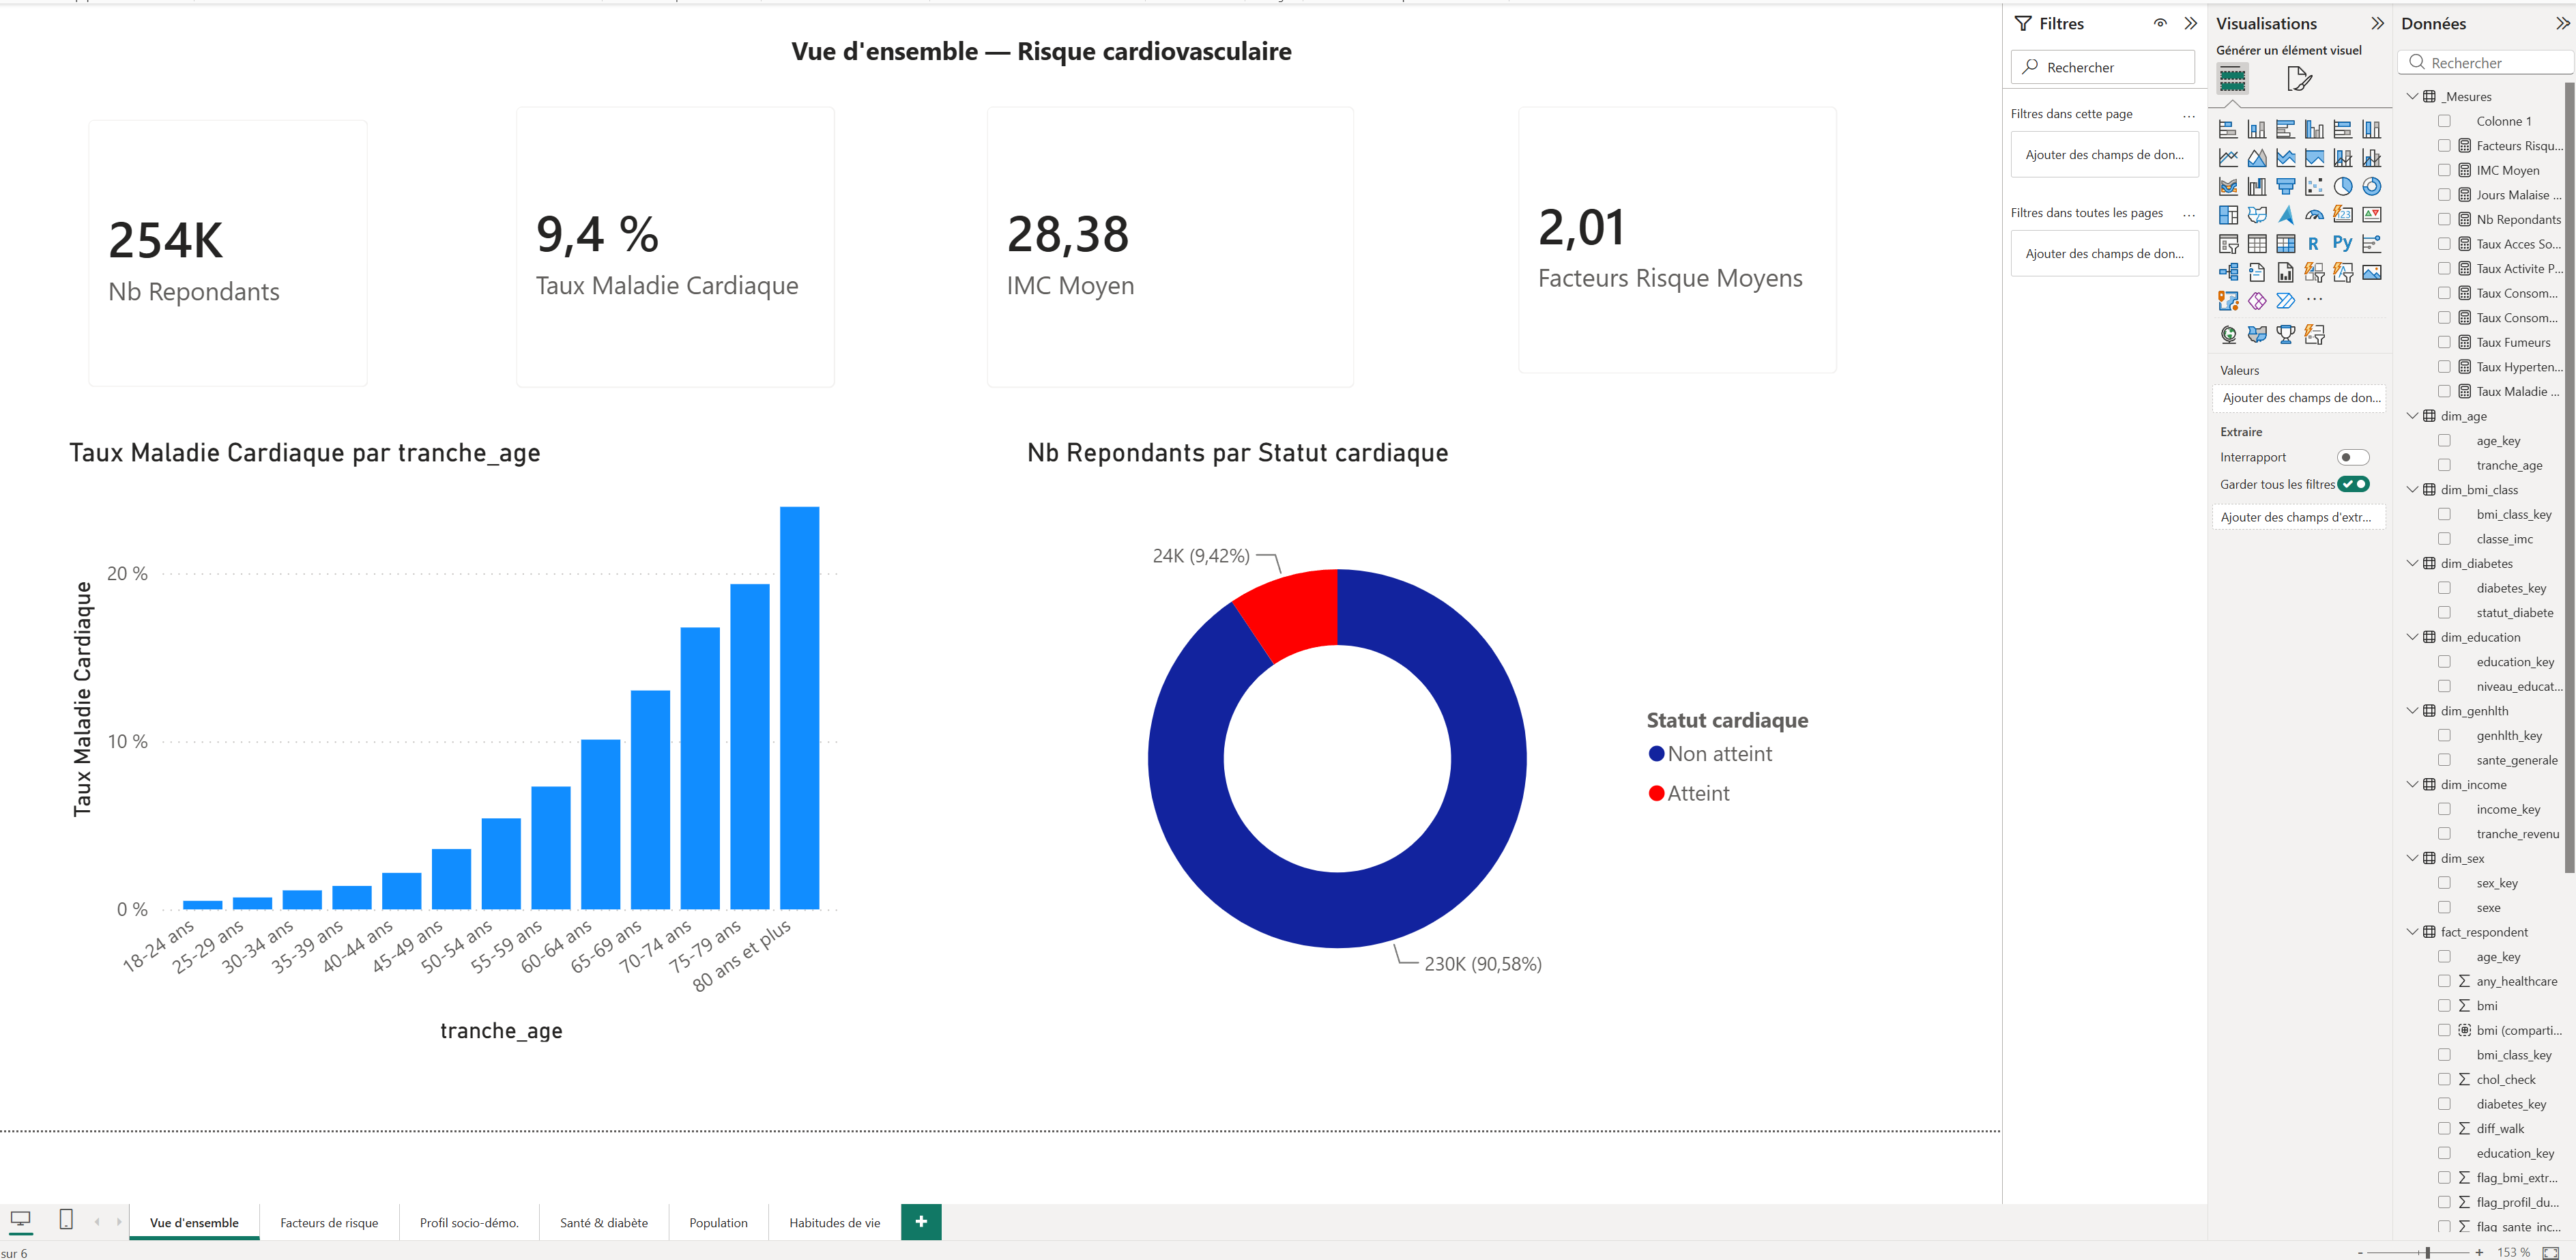

The dashboard page shown, as its layout file describes it:
{"tool":"powerbi","page":{"name":"Vue d'ensemble","canvas":[1280,720],"ordinal":0},"visuals":[{"type":"cardVisual","fields":{"Data":["_Mesures.Nb Repondants"]},"box":[39.9,56.9,213.2,206],"z":0},{"type":"cardVisual","fields":{"Data":["_Mesures.Taux Maladie Cardiaque"]},"box":[313.2,48.4,238.7,214.5],"z":1000},{"type":"cardVisual","fields":{"Data":["_Mesures.IMC Moyen"]},"box":[614.1,48.4,269.4,214.5],"z":2000},{"type":"cardVisual","fields":{"Data":["_Mesures.Facteurs Risque Moyens"]},"box":[953.5,48.4,238.7,206],"z":3000},{"type":"clusteredColumnChart","fields":{"Category":["dim_age.tranche_age"],"Y":["_Mesures.Taux Maladie Cardiaque"]},"box":[39.9,276.6,502.2,391.7],"z":4000},{"type":"donutChart","fields":{"Category":["fact_respondent.Statut cardiaque"],"Y":["_Mesures.Nb Repondants"]},"box":[652,276.6,525.1,391.7],"z":5000},{"type":"textbox","box":[478,13.7,376.7,34.7],"z":6000}]}

Visuals, with their boxes on the page's 1280x720 design canvas (x1, y1, x2, y2). These are canvas units, not pixel positions in the 2576x1260 screenshot, which may show the page scaled, cropped or inside an application window:
cardVisual - _Mesures.Nb Repondants: locate(40, 57, 253, 263)
cardVisual - _Mesures.Taux Maladie Cardiaque: locate(313, 48, 552, 263)
cardVisual - _Mesures.IMC Moyen: locate(614, 48, 884, 263)
cardVisual - _Mesures.Facteurs Risque Moyens: locate(954, 48, 1192, 254)
clusteredColumnChart - dim_age.tranche_age x _Mesures.Taux Maladie Cardiaque: locate(40, 277, 542, 668)
donutChart - fact_respondent.Statut cardiaque x _Mesures.Nb Repondants: locate(652, 277, 1177, 668)
textbox: locate(478, 14, 855, 48)
